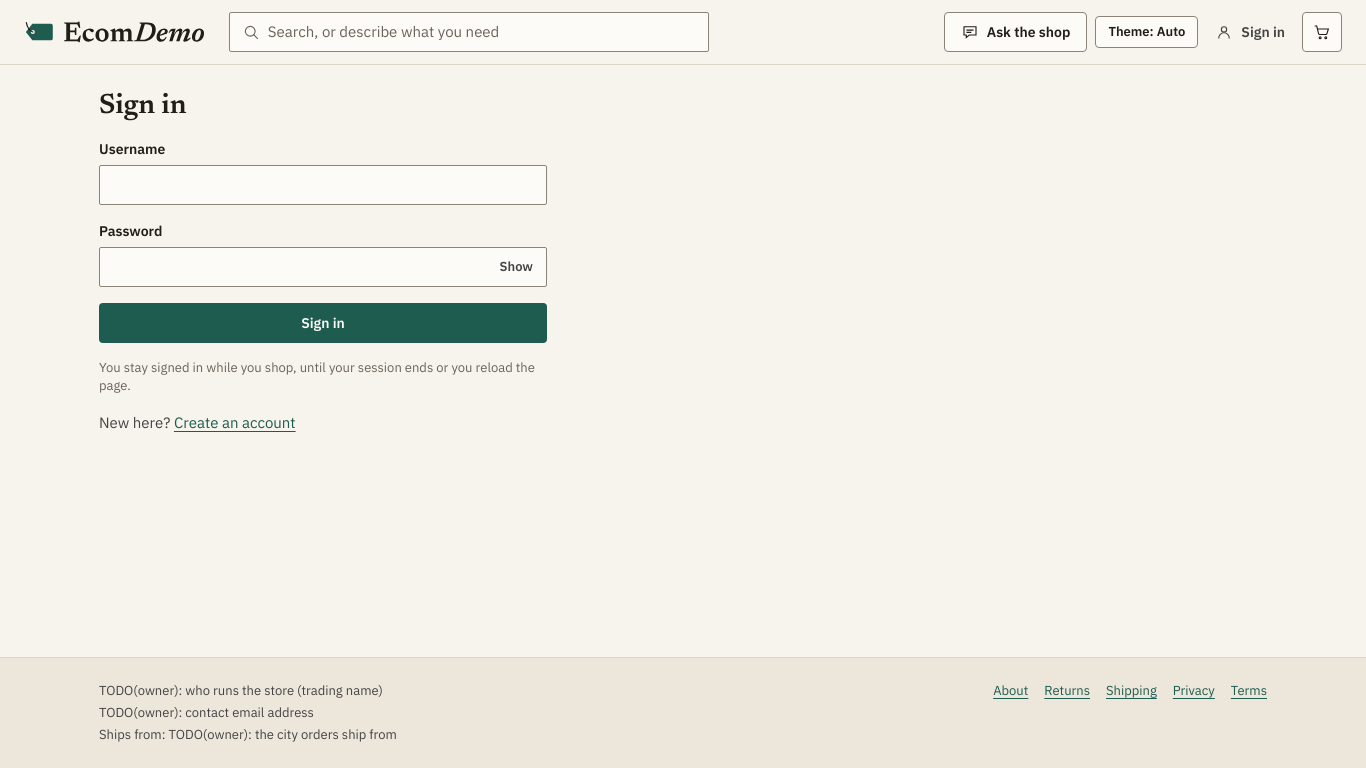
Scenario: the sign-in page › signing in › sends the username and password as typed, asks who it is with the new token, and goes to the shelf
Step 1. Type "asha.rao" into the field labelled "Username" → point(323, 185), box [112,166,534,204]
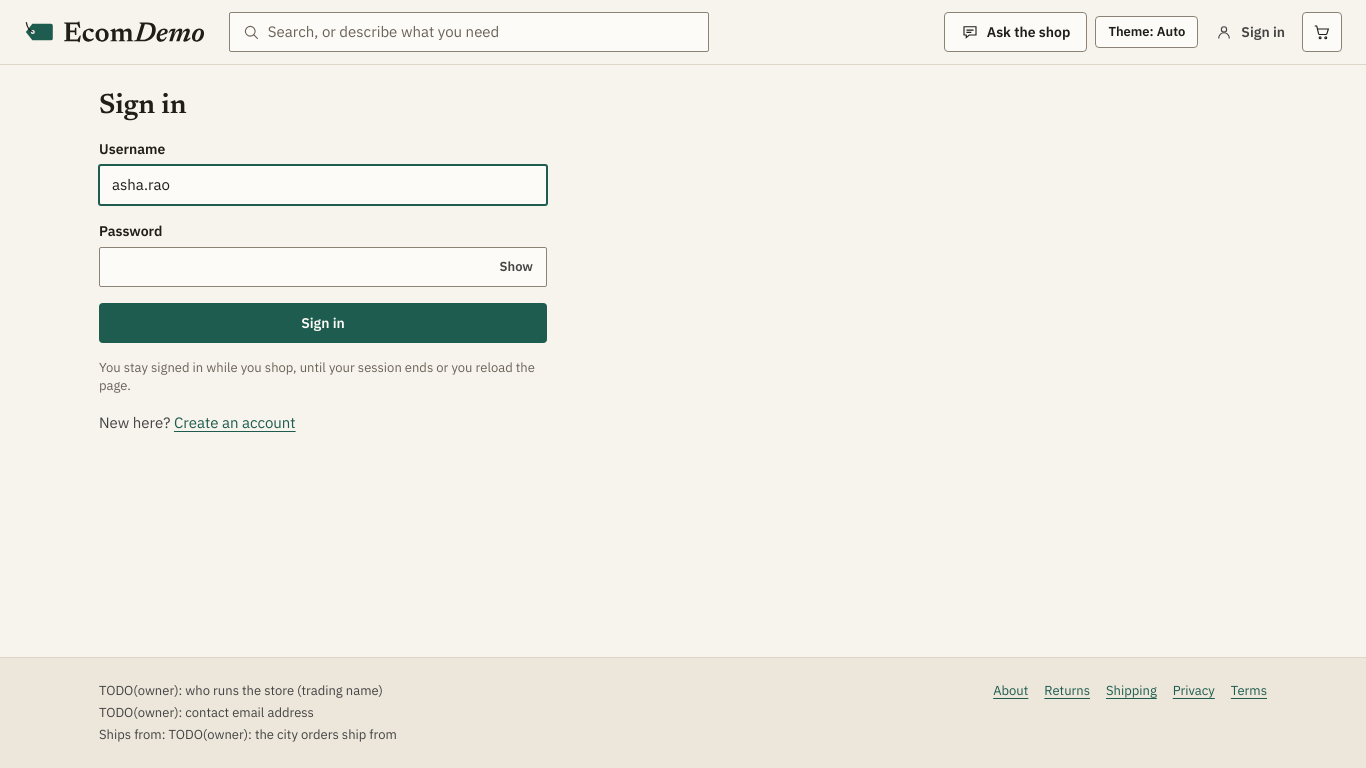
Step 2. Type "  spaced pass  " into the password field labelled "Password" → point(297, 267), box [112,248,483,286]
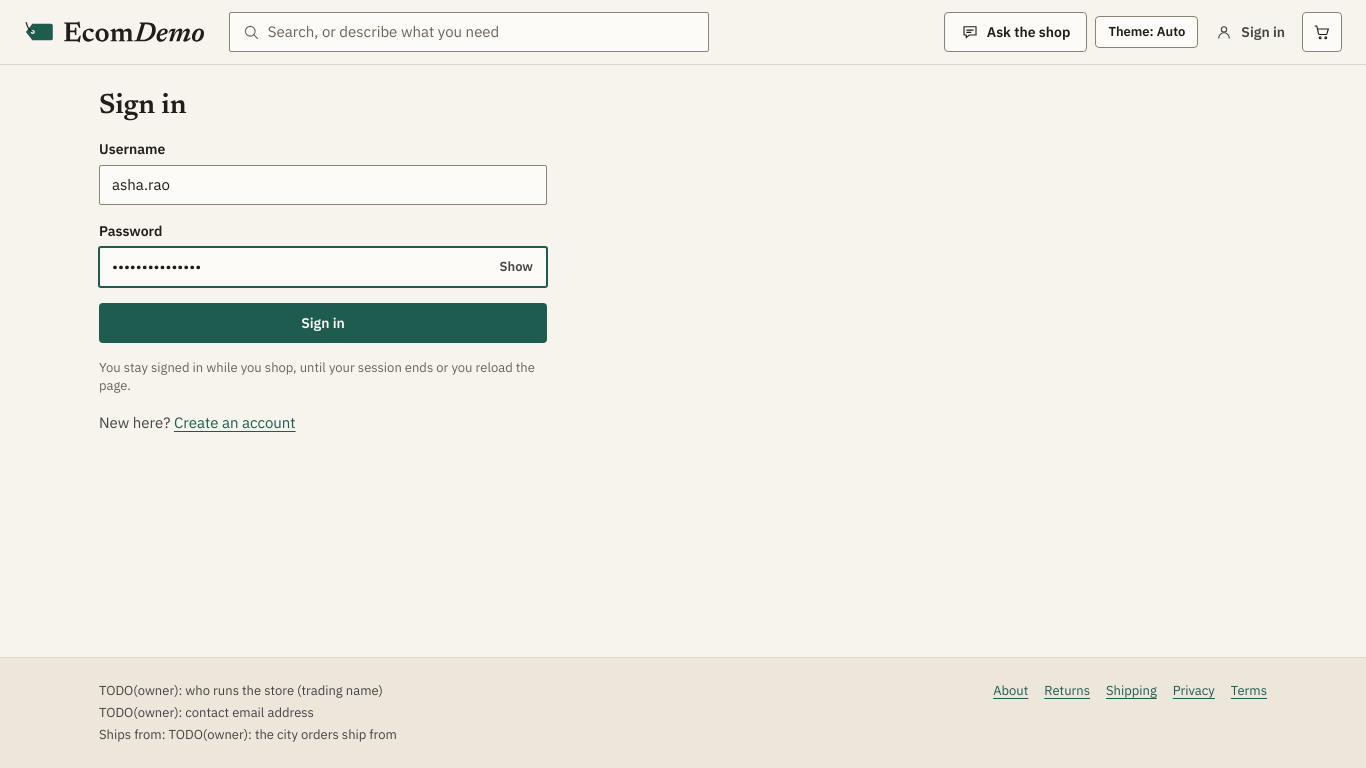
Step 3. Click the button "Sign in" → point(323, 323), box [99,303,547,343]
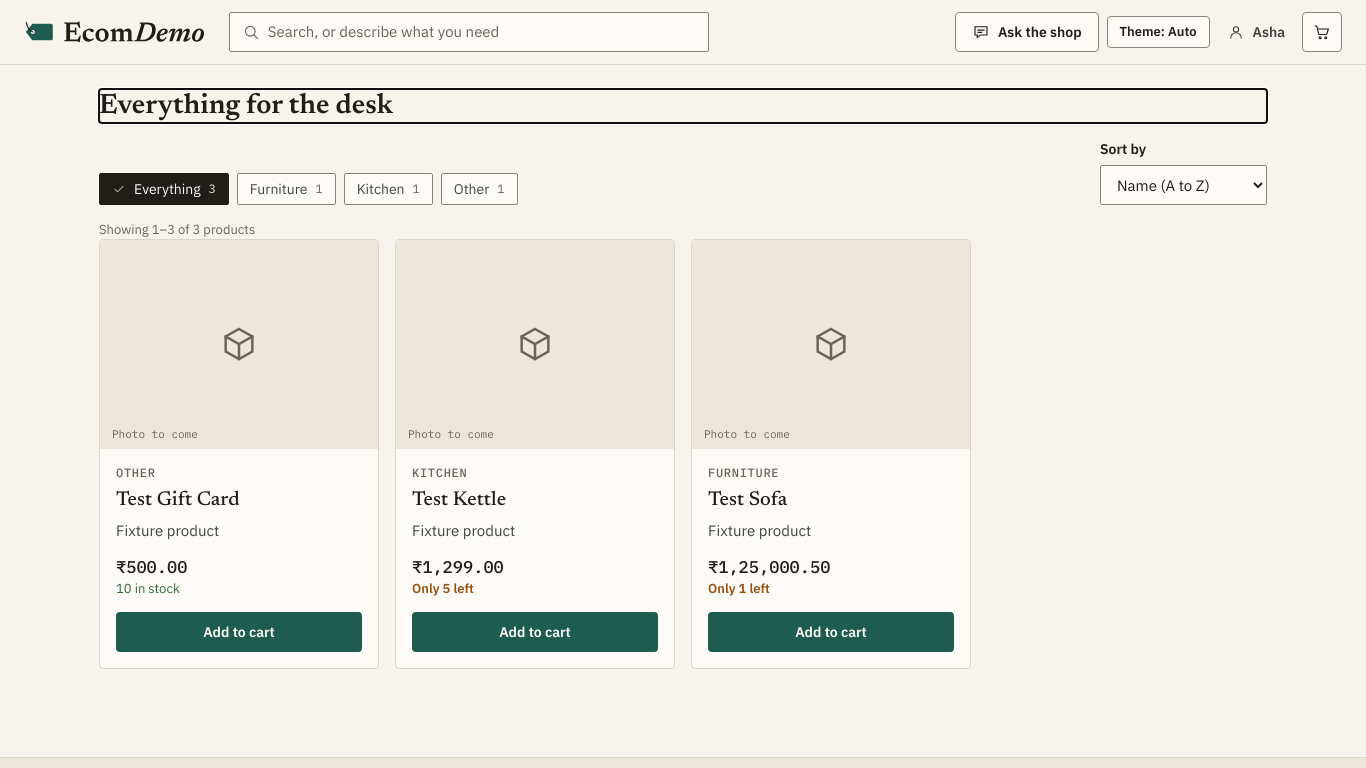
Result: the heading "Everything for the desk" is shown at [99,92,393,120]
Result: the button with aria-label "Account: Asha" is shown at [1218,12,1294,52]
